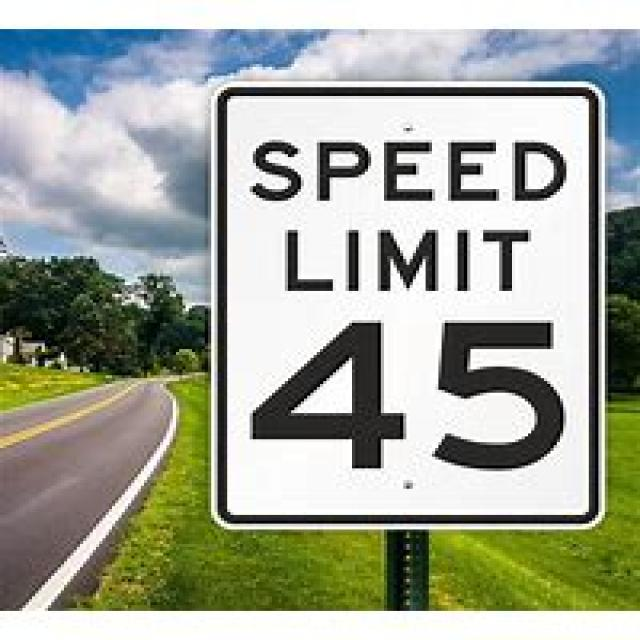speedLimit45: (206, 79, 604, 524)
